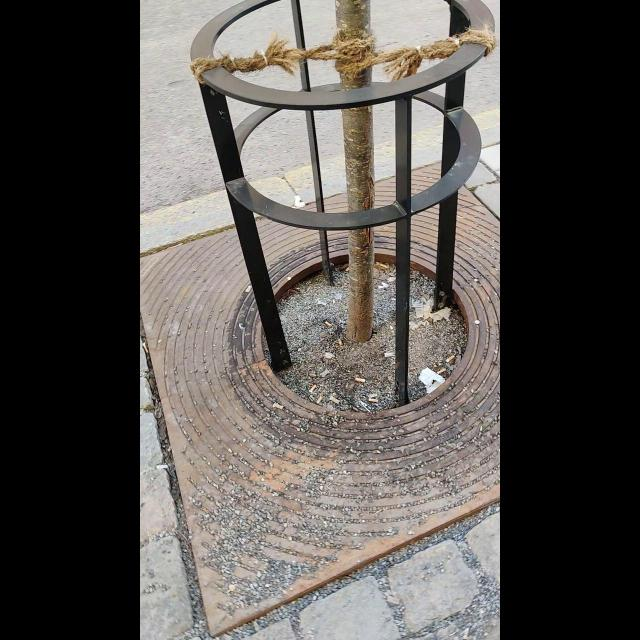cigarette: (385, 593, 402, 606), (271, 402, 286, 410), (142, 343, 151, 355), (446, 354, 456, 364), (156, 464, 171, 470), (330, 396, 340, 404), (383, 352, 395, 358), (437, 368, 447, 375), (353, 378, 367, 383), (309, 384, 317, 392), (244, 285, 252, 293), (337, 338, 344, 346), (317, 395, 324, 403), (379, 261, 387, 268), (368, 398, 378, 403), (324, 321, 333, 326), (345, 265, 350, 272)
